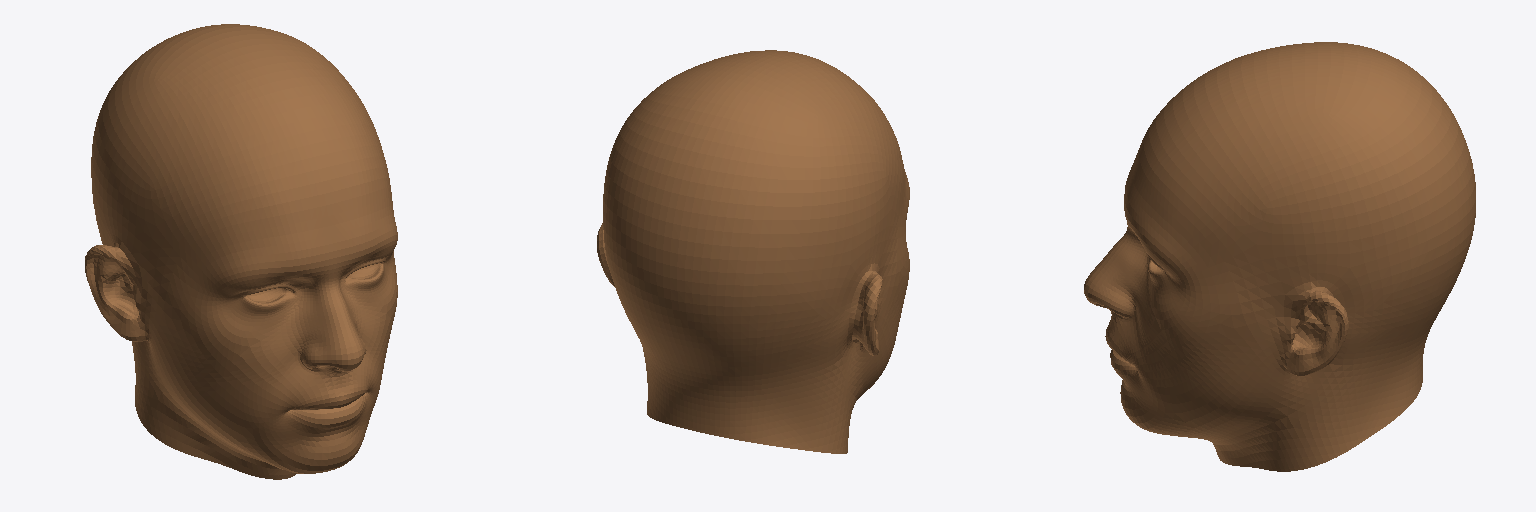
Rendered from enemy3.obj.
3 renders of one model, left to right at view 1: azimuth 30°, elevation 25°; view 2: azimuth 150°, elevation 25°; view 3: azimuth 270°, elevation 25°, orthographic.
Parts seen in each view (by area): view 1: Male_Average_Head:ZBrushPolyMesh3D1; view 2: Male_Average_Head:ZBrushPolyMesh3D1; view 3: Male_Average_Head:ZBrushPolyMesh3D1.
Part boxes in pixels (left/top/right/bottom): Male_Average_Head:ZBrushPolyMesh3D1: left=85, top=24, right=397, bottom=479; Male_Average_Head:ZBrushPolyMesh3D1: left=597, top=50, right=909, bottom=453; Male_Average_Head:ZBrushPolyMesh3D1: left=1084, top=42, right=1475, bottom=471.
Size of the model in its own units: 0.8804 by 1.21 by 1.07.